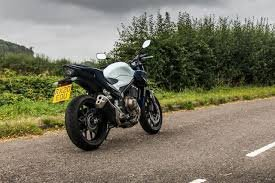motor: (53, 51, 166, 145)
